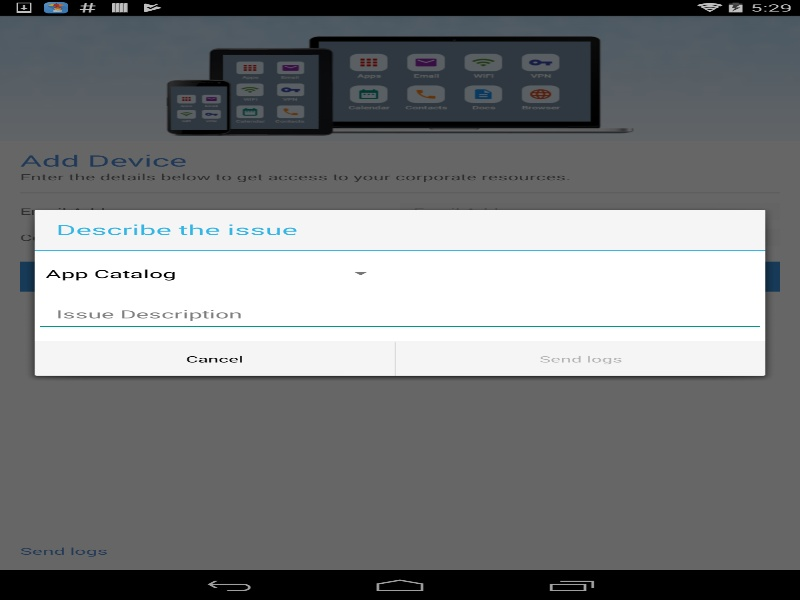Button: (396, 342, 765, 375), (34, 342, 394, 375)
Input: (34, 296, 765, 331)
